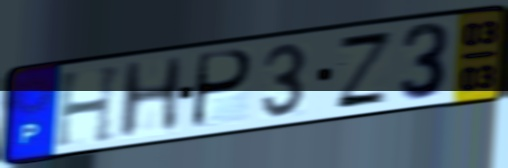3: (396, 19, 455, 103), (259, 39, 312, 121)
H: (52, 61, 127, 151), (114, 53, 188, 143)
P: (187, 47, 256, 132)
Z: (331, 30, 397, 111)
